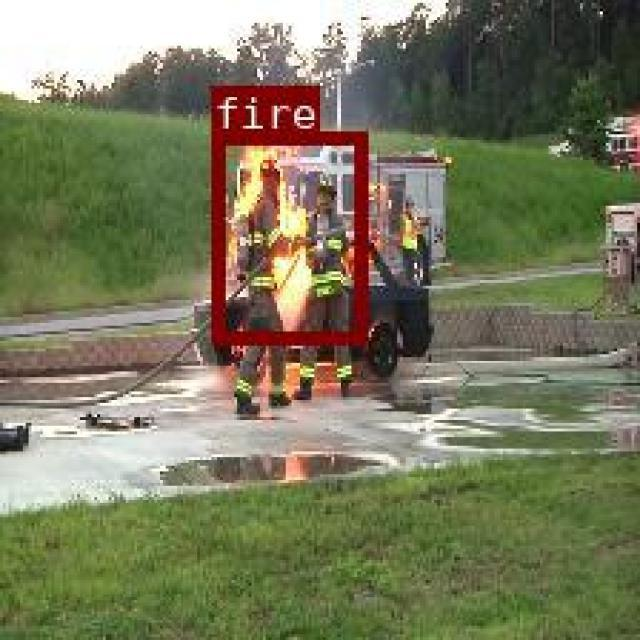fire: (209, 131, 364, 340)
